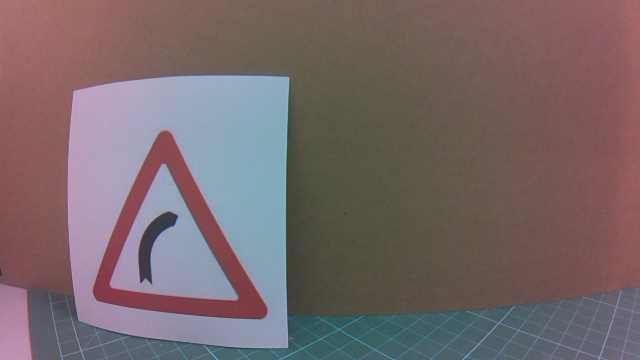right: (100, 148, 278, 324)
